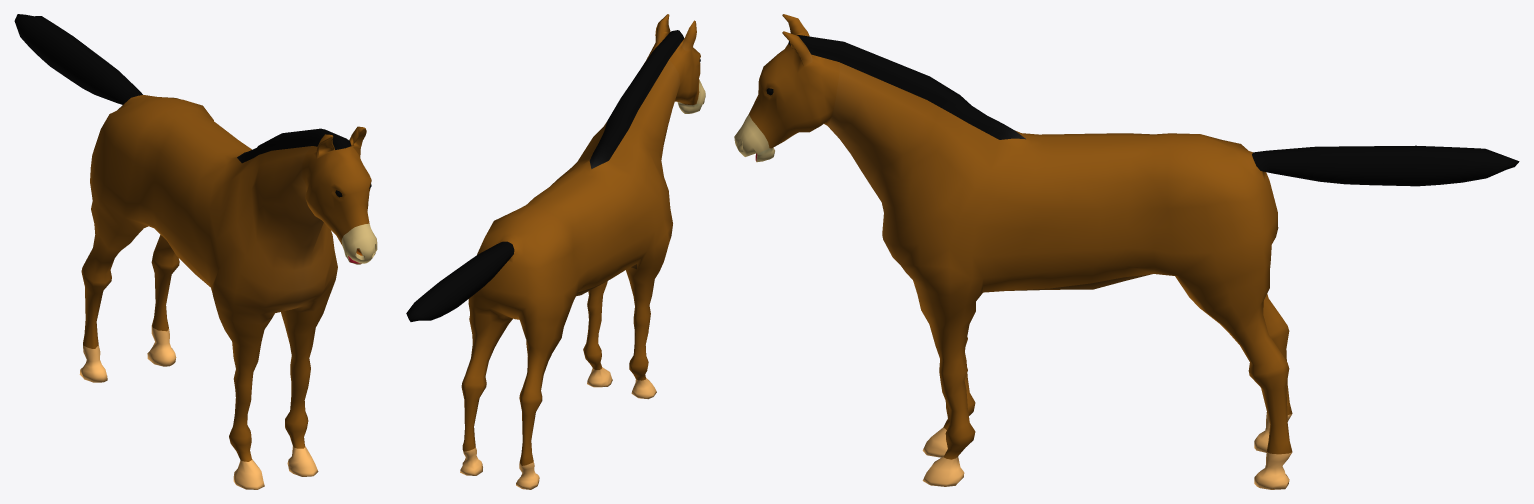
Rendered from model-horse.glb.
3 renders of one model, left to right at view 1: azimuth 30°, elevation 25°; view 2: azimuth 150°, elevation 25°; view 3: azimuth 270°, elevation 25°, orthographic. The views are drawn at different scales.
Parts seen in each view (by area): view 1: Horse; view 2: Horse; view 3: Horse.
Part boxes in pixels (x1=…): Horse: x1=14, y1=14, x2=377, y2=489; Horse: x1=406, y1=14, x2=705, y2=489; Horse: x1=734, y1=14, x2=1519, y2=489.
Bounding box in the file's own units: 0.6417 × 2.03 × 3.27.
1 material, 1 textured.
